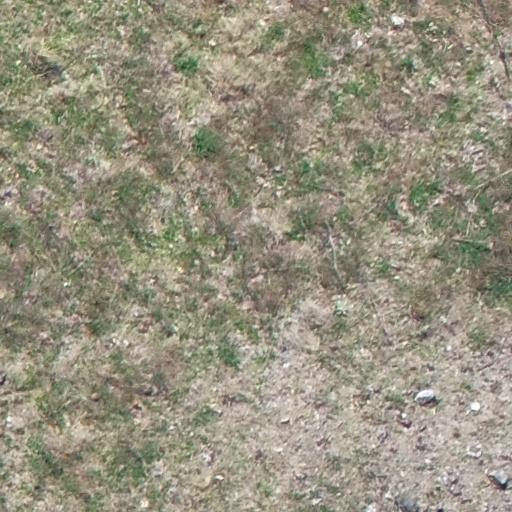stone: (483, 467, 509, 489), (412, 385, 436, 406), (221, 392, 251, 408), (4, 412, 26, 432), (442, 467, 462, 489), (239, 295, 257, 314), (328, 44, 346, 62), (414, 432, 429, 452), (410, 307, 428, 323), (136, 317, 153, 333), (0, 186, 16, 202), (465, 444, 483, 458), (396, 414, 412, 429), (314, 435, 330, 450), (431, 194, 448, 208), (150, 462, 164, 478), (390, 14, 406, 28), (470, 162, 487, 175), (465, 200, 479, 214), (376, 429, 389, 444), (142, 385, 157, 397), (470, 148, 485, 160), (38, 331, 51, 344), (198, 452, 212, 464), (253, 448, 264, 462), (138, 498, 150, 509), (90, 391, 101, 402), (130, 402, 142, 412), (310, 497, 322, 507), (469, 402, 481, 412), (212, 474, 224, 482), (208, 38, 217, 48), (273, 446, 284, 454), (258, 18, 266, 28), (280, 416, 290, 424), (282, 362, 291, 370), (356, 40, 364, 48), (322, 6, 330, 14), (35, 143, 43, 151), (424, 458, 432, 466), (122, 339, 130, 347), (446, 344, 452, 352), (401, 411, 407, 419), (15, 60, 22, 66)
